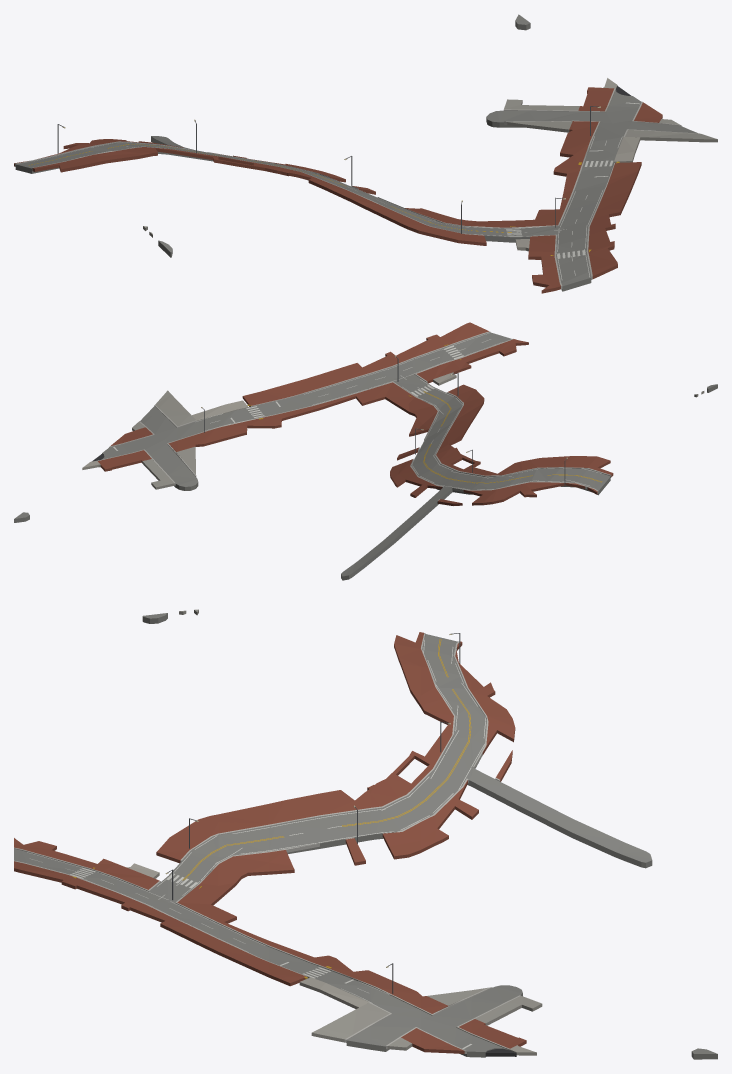
3 views of the same model, one above another, from view 1: azimuth 30°, elevation 25°; view 2: azimuth 150°, elevation 25°; view 3: azimuth 270°, elevation 25° (orthographic). The views are drawn at different scales.
Size of the model in its own units: 147 by 30.21 by 139.
